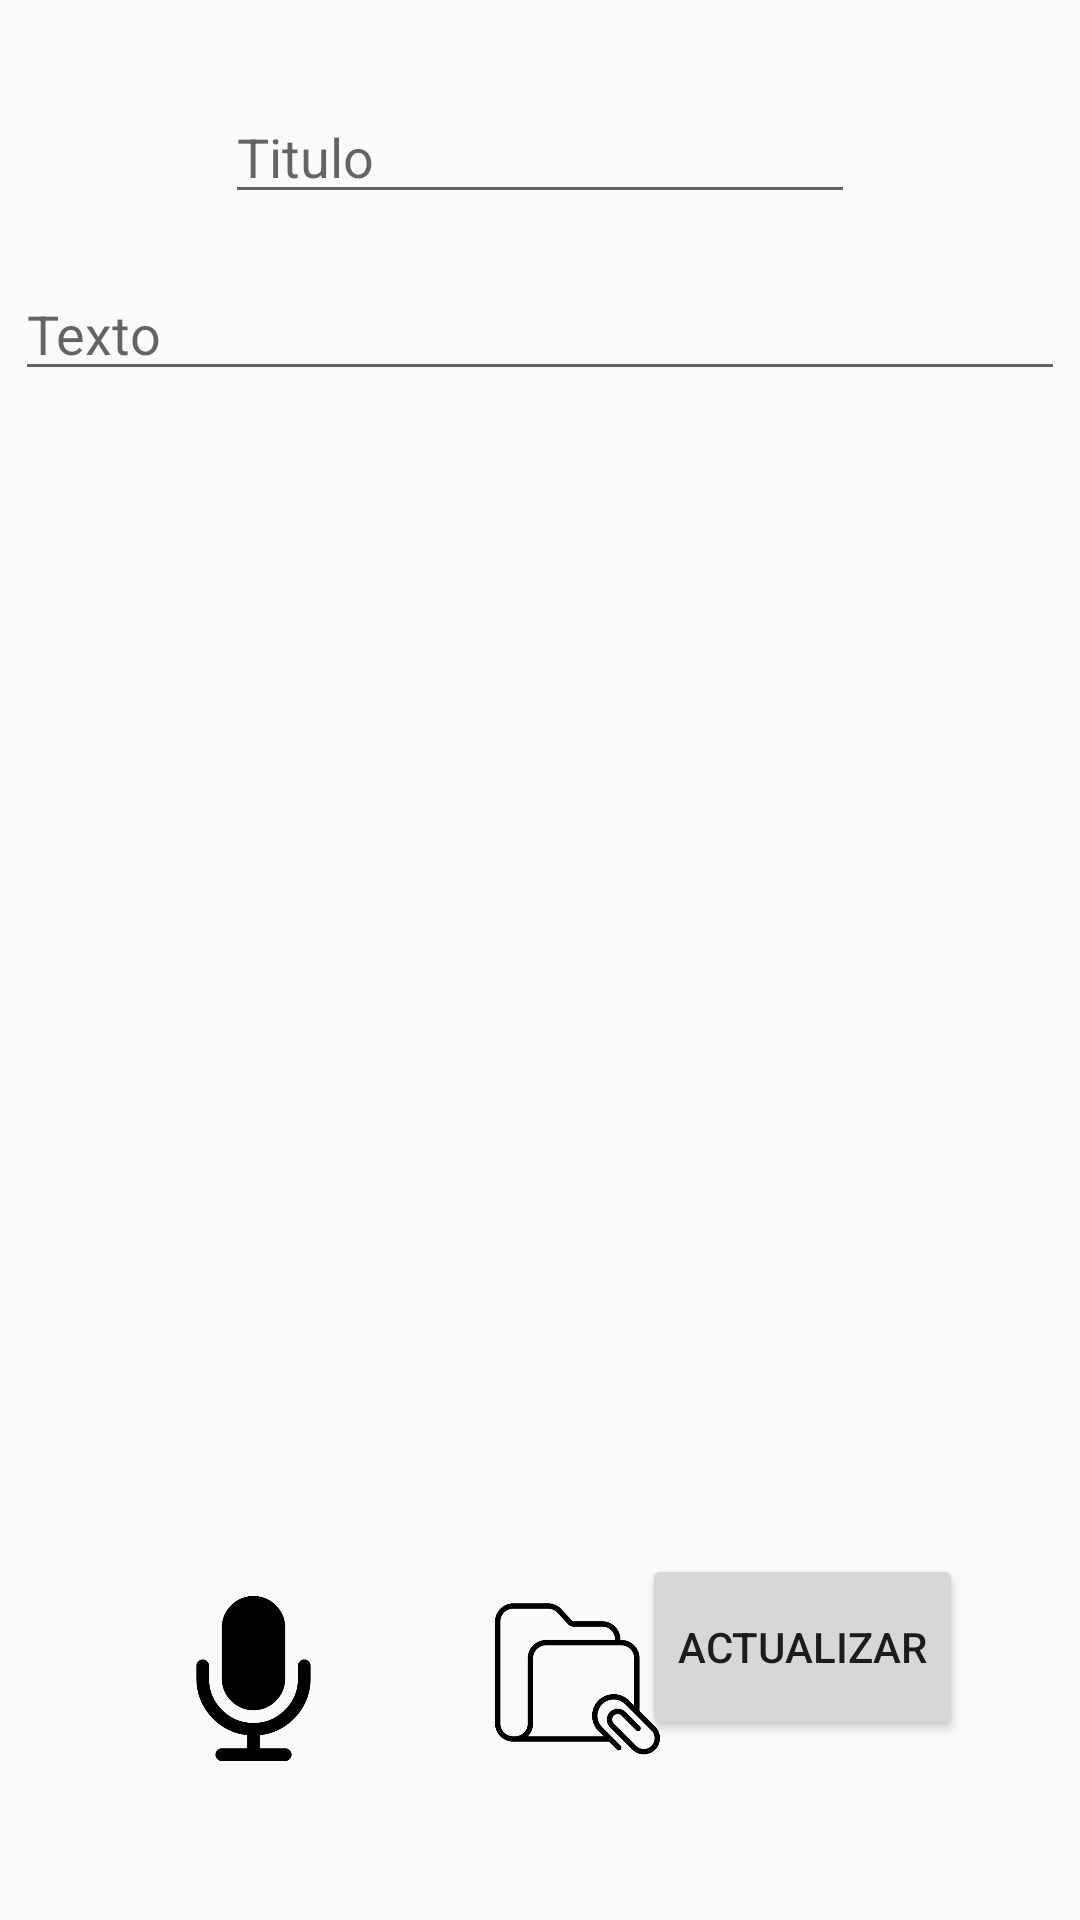

Screen size 1080px×1920px. Icon name, then its center in pixels as [x,y]:
carpeta: [577,1679]
forma de microfono negro: [253,1678]
